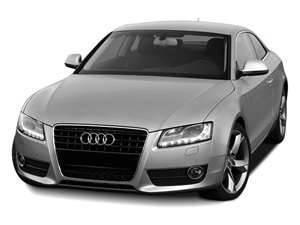car: (2, 7, 300, 225)
